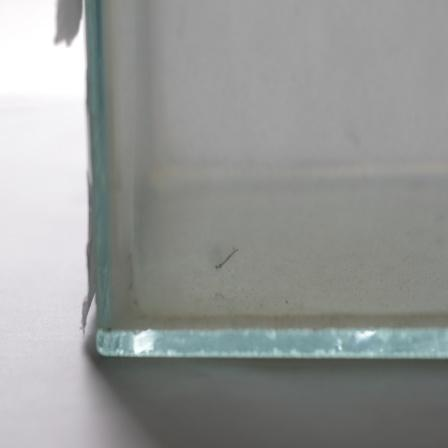Jentik-Nyamuk: (211, 246, 242, 273)
